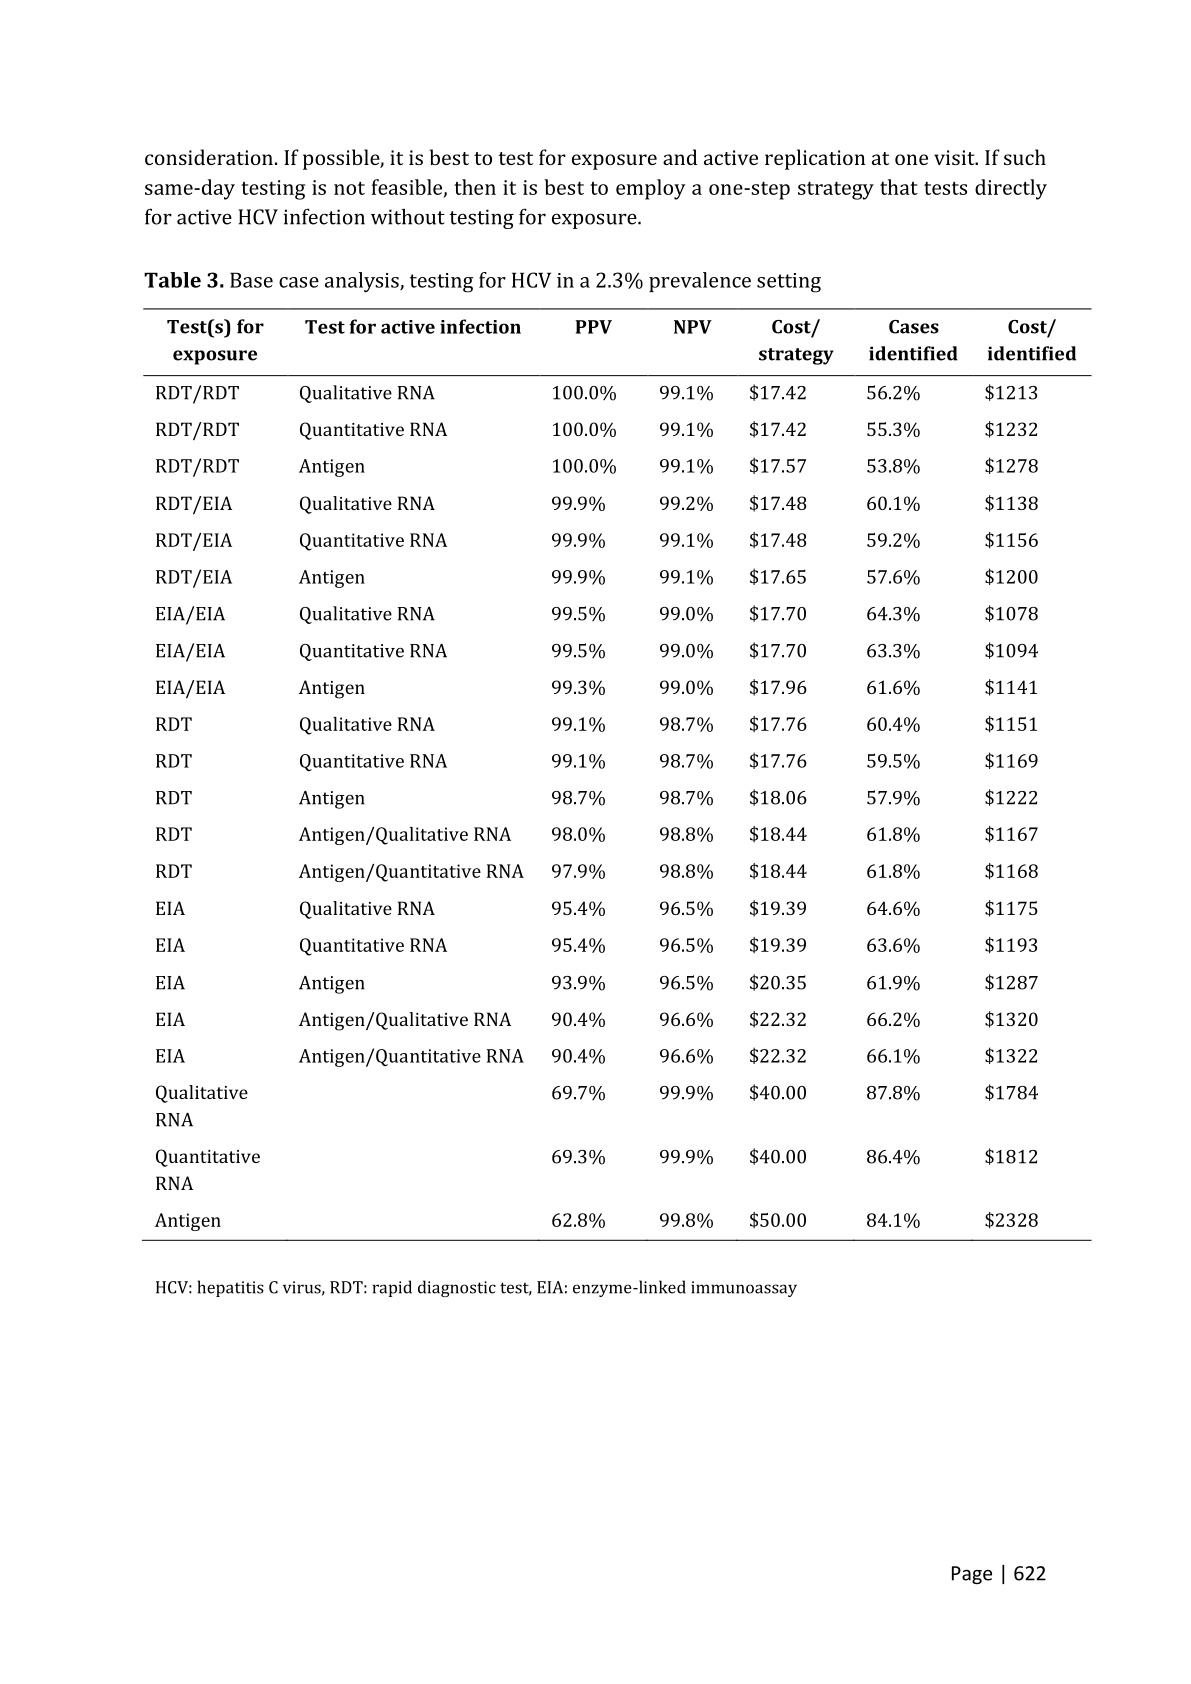partial_lined: (140, 305, 1096, 1245)
